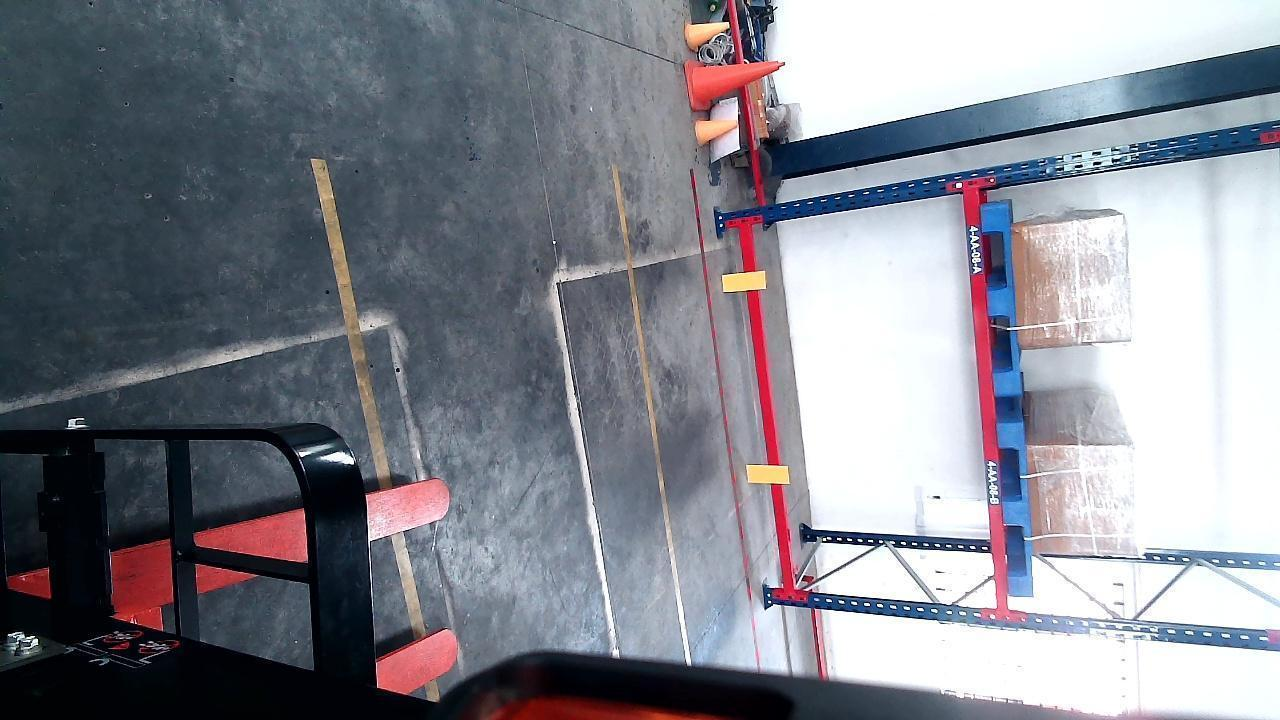yellow_line: (621, 179, 684, 624), (312, 150, 388, 466)
